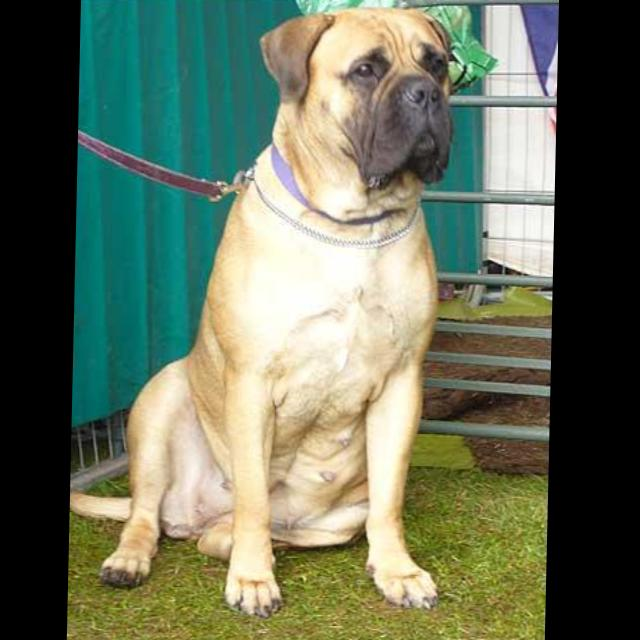bullmastiff: (72, 7, 459, 620)
